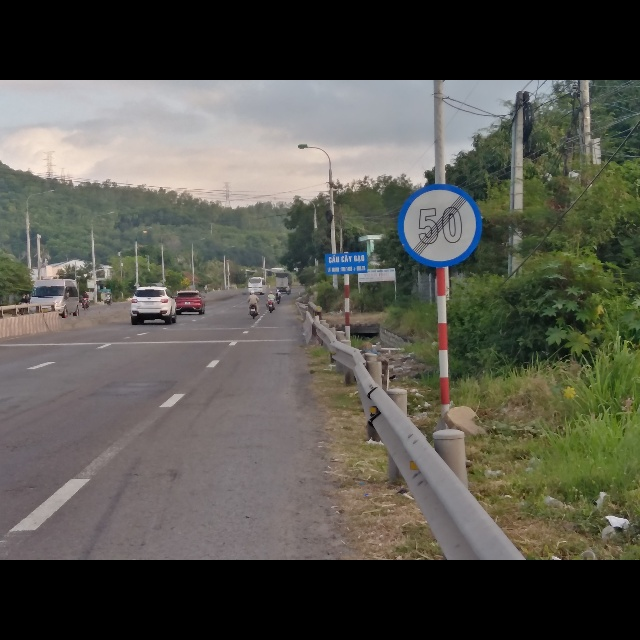Hết hạn chế tốc độ tối đa 50km/h: (398, 183, 485, 272)
